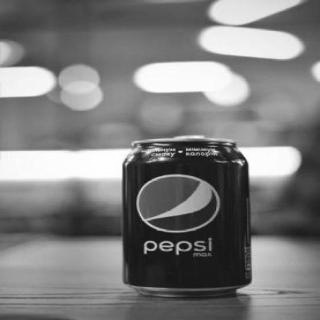alumunium_can: (121, 136, 254, 298)
